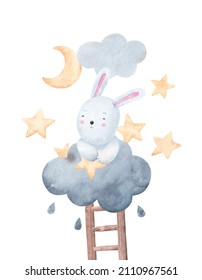cloud: (76, 33, 150, 78)
moon: (41, 43, 83, 89)
star: (23, 108, 56, 139), (115, 114, 148, 145), (151, 130, 183, 159), (149, 73, 176, 98)
